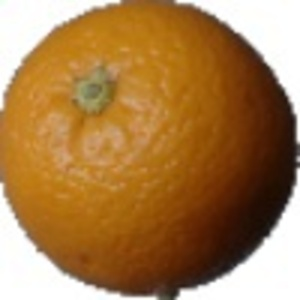laranja: (6, 2, 297, 297)
